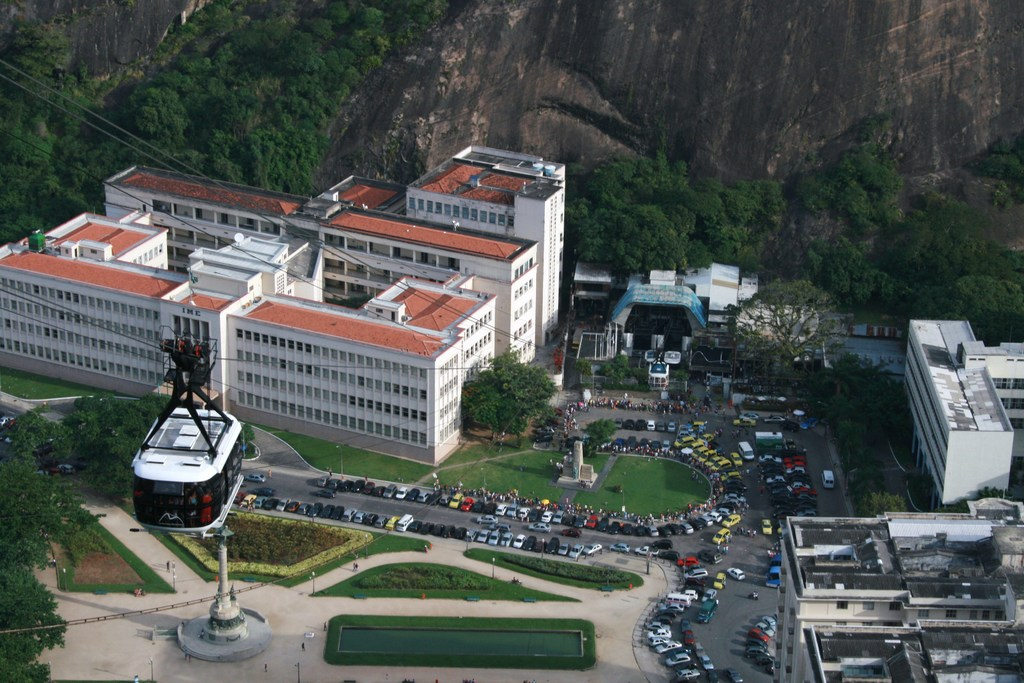Tree: (0, 0, 455, 249), (567, 130, 788, 276), (0, 407, 105, 682), (794, 234, 1023, 349), (733, 261, 864, 381), (791, 114, 908, 236), (56, 388, 176, 504), (459, 347, 563, 443), (969, 139, 1023, 182)
